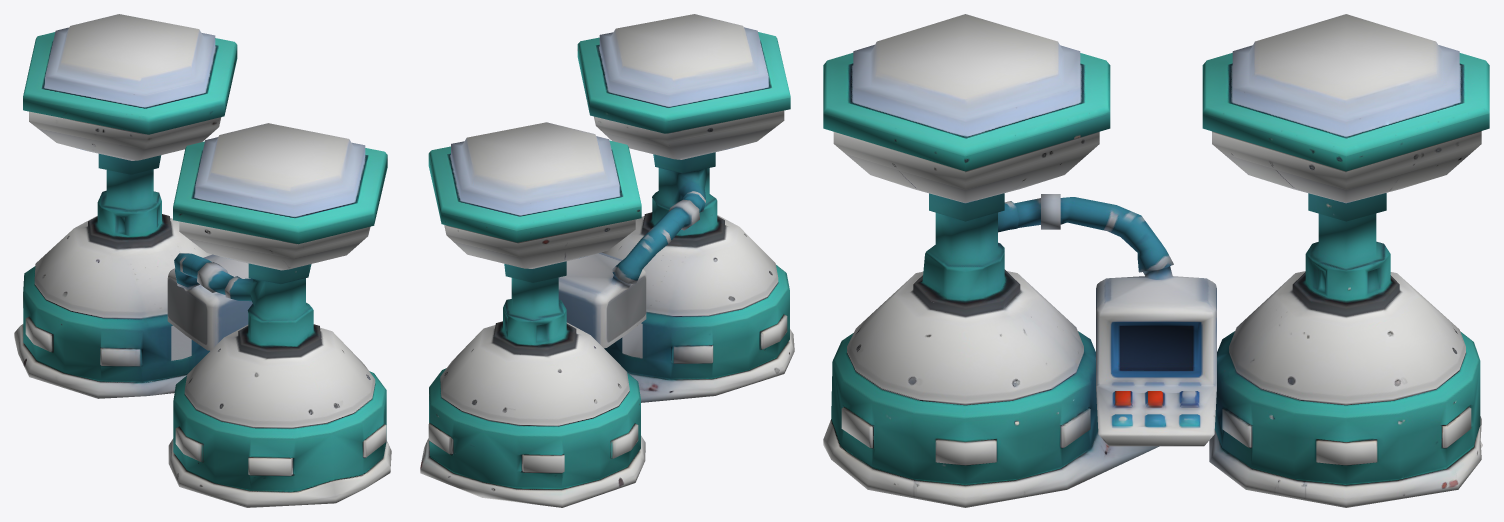
3 views of the same model, side by side, from view 1: azimuth 30°, elevation 25°; view 2: azimuth 150°, elevation 25°; view 3: azimuth 270°, elevation 25° (orthographic). The views are drawn at different scales.
Parts seen in each view (by area): view 1: tripo_node_226c46da-ec9e-4df9-86e5-1b279c706456; view 2: tripo_node_226c46da-ec9e-4df9-86e5-1b279c706456; view 3: tripo_node_226c46da-ec9e-4df9-86e5-1b279c706456.
Part boxes in pixels (x1=…): tripo_node_226c46da-ec9e-4df9-86e5-1b279c706456: x1=14, y1=14, x2=391, y2=507; tripo_node_226c46da-ec9e-4df9-86e5-1b279c706456: x1=420, y1=14, x2=794, y2=507; tripo_node_226c46da-ec9e-4df9-86e5-1b279c706456: x1=823, y1=14, x2=1489, y2=507.
Bounding box in the file's own units: 0.4716 × 0.6438 × 1.
Materials: 1 (1 with a texture image).
